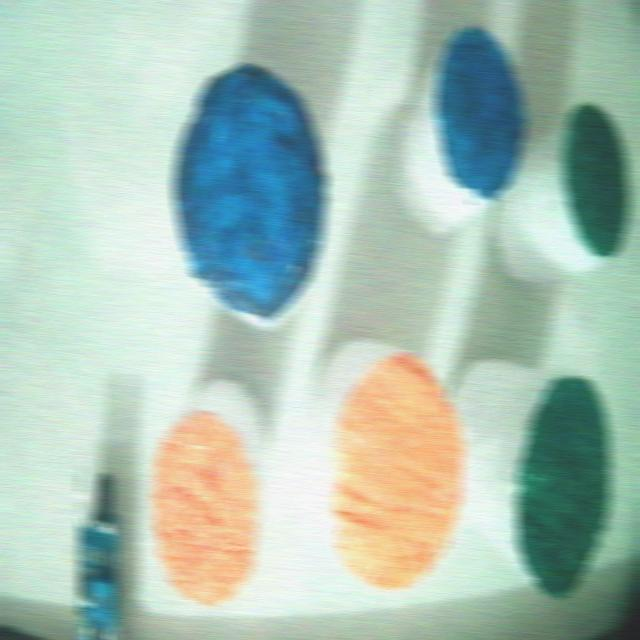blue: (172, 64, 327, 324), (435, 27, 526, 199)
green: (515, 376, 610, 597), (562, 104, 629, 256)
yellow: (330, 353, 463, 588), (151, 411, 260, 604)
